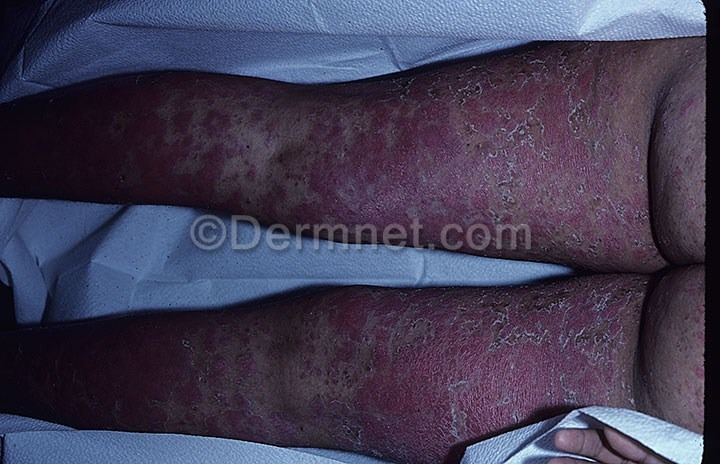Psoriasis: (295, 42, 636, 261), (264, 274, 653, 450), (6, 304, 259, 428), (24, 75, 256, 203)
